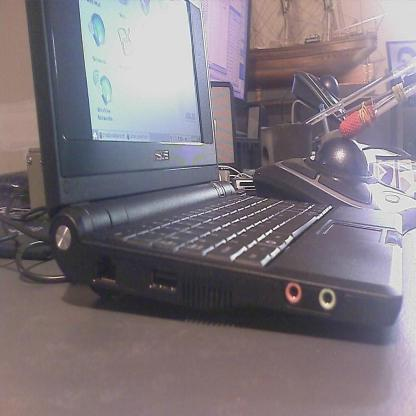board: (14, 0, 404, 345)
